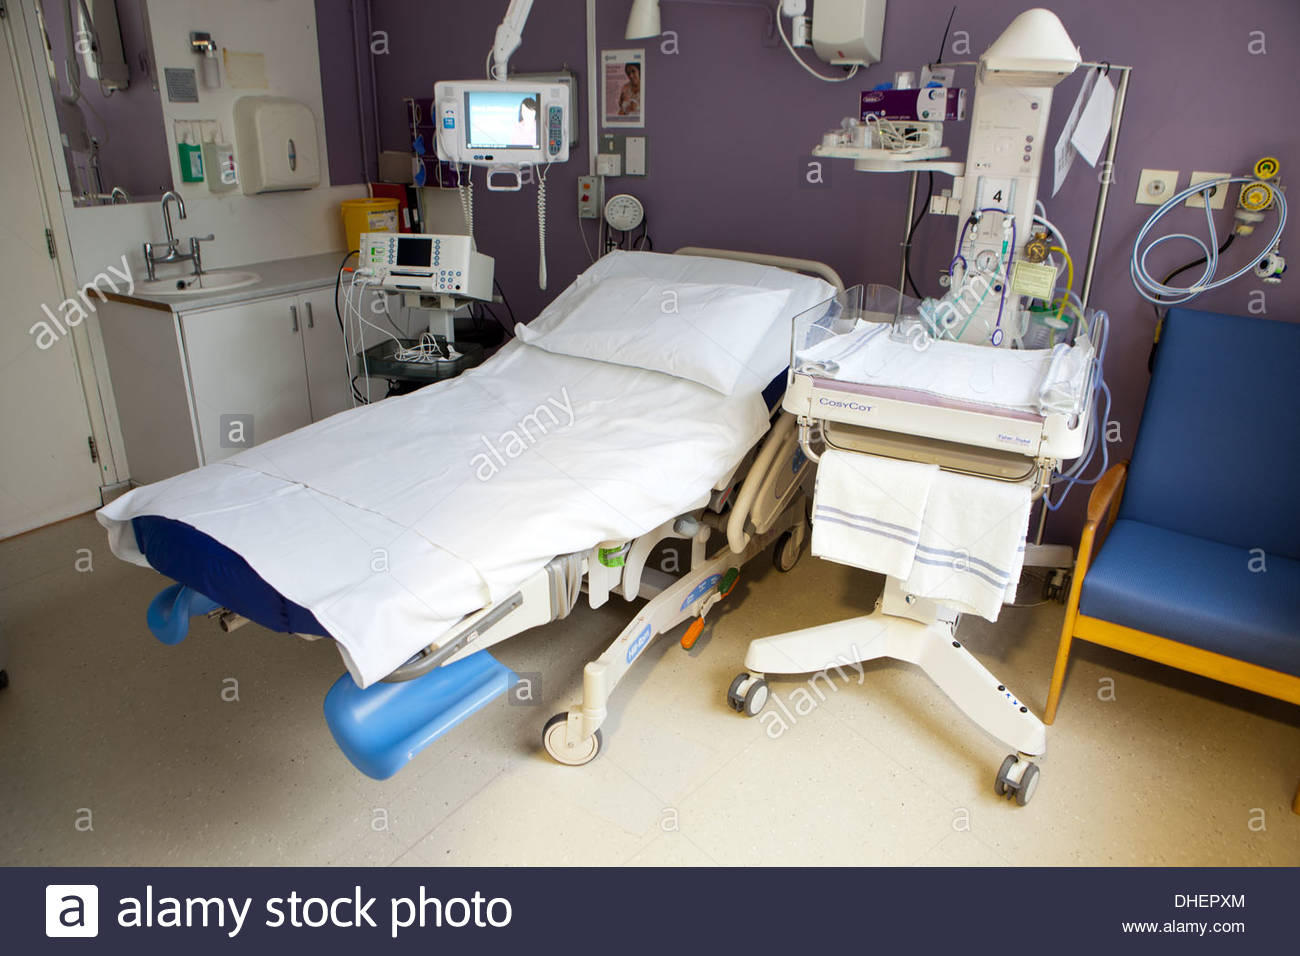hospital bed: (97, 249, 801, 555)
